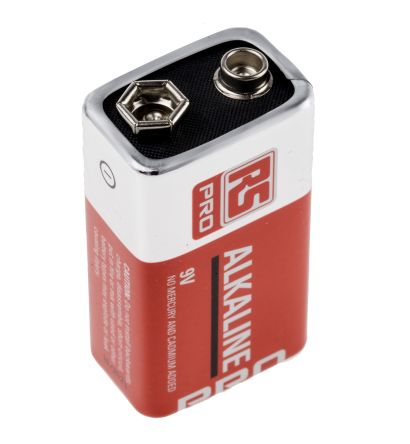9V: (67, 20, 332, 419)
